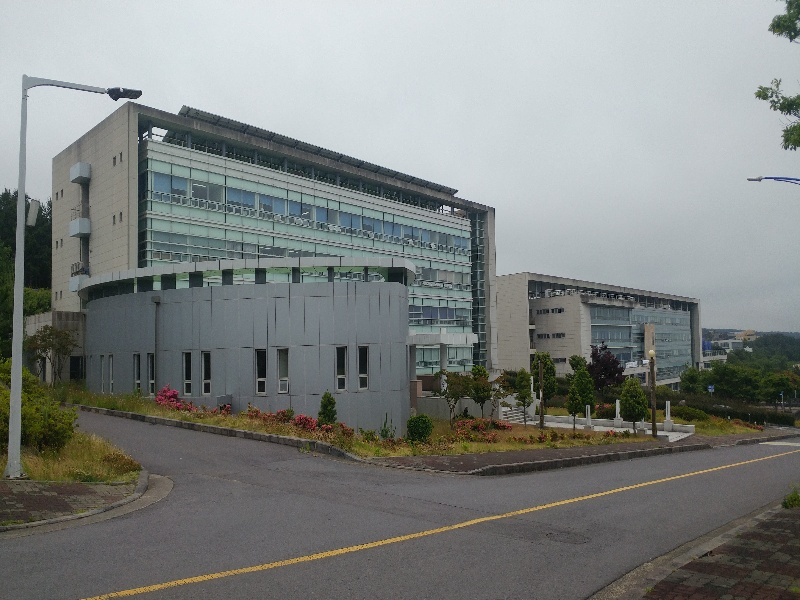College of Marine Science: (57, 117, 498, 418), (90, 135, 471, 393)
Engineering College Building 4: (504, 278, 704, 394)
